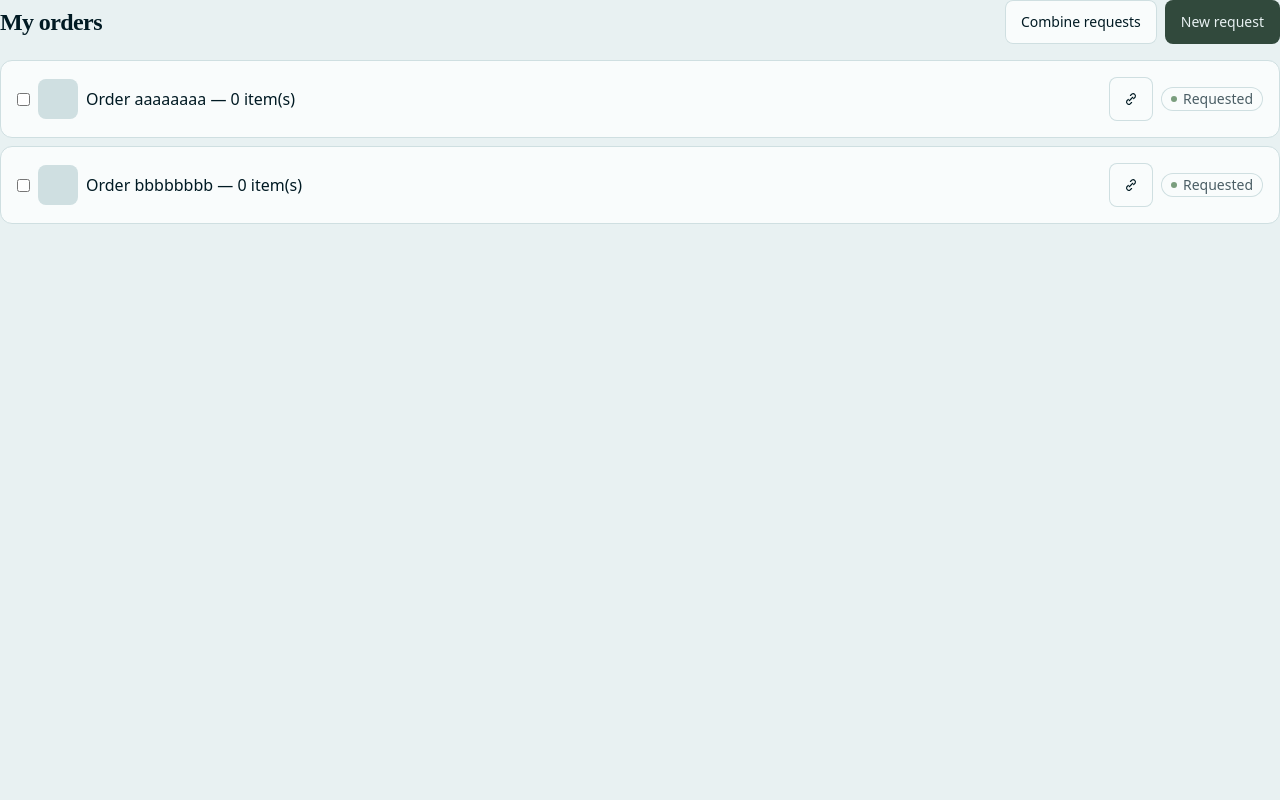
Test case: OrdersListPage › merging › offers merge only once two orders are selected and posts the selected ids after confirming
Click the checkbox named "Select order aaaaaaaa to merge" at x=24, y=99, box [17,92,30,106]
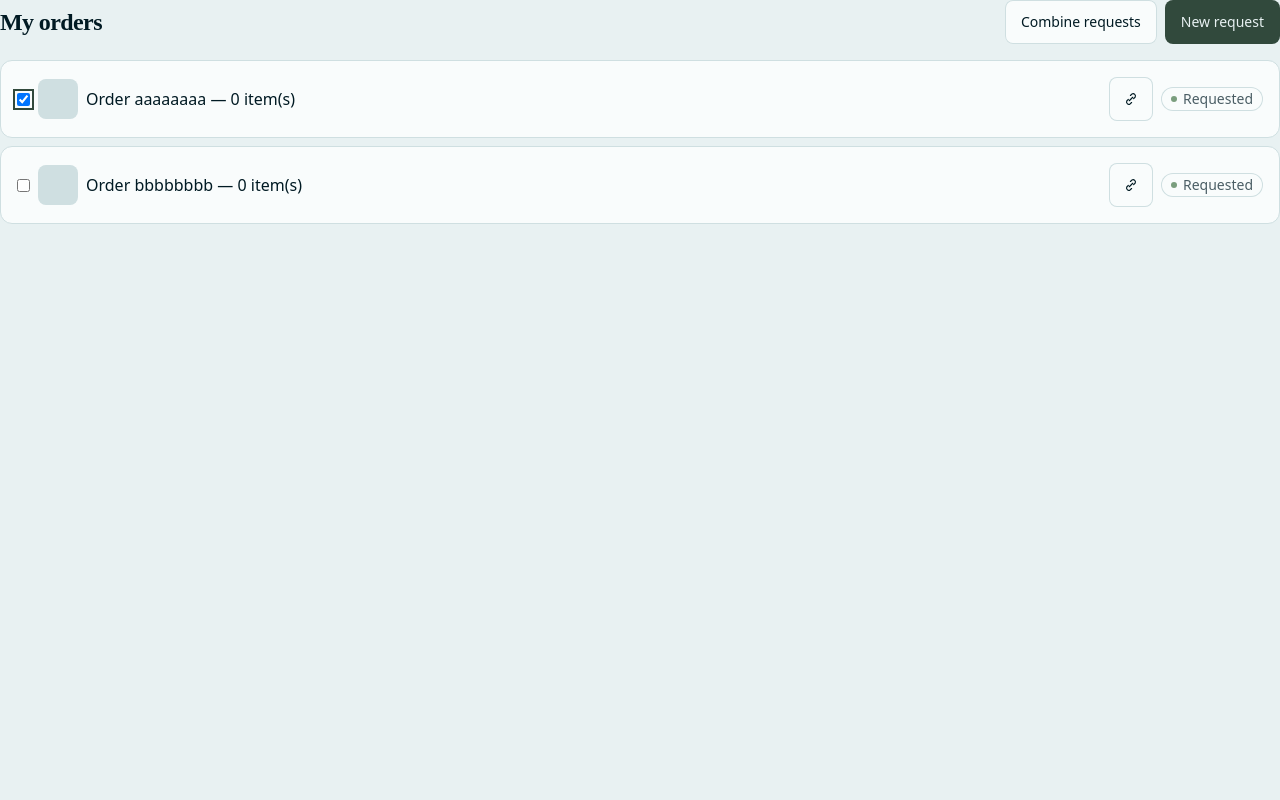
Expected: the text "Merge selected" is not shown
Click the checkbox named "Select order bbbbbbbb to merge" at x=24, y=185, box [17,178,30,192]
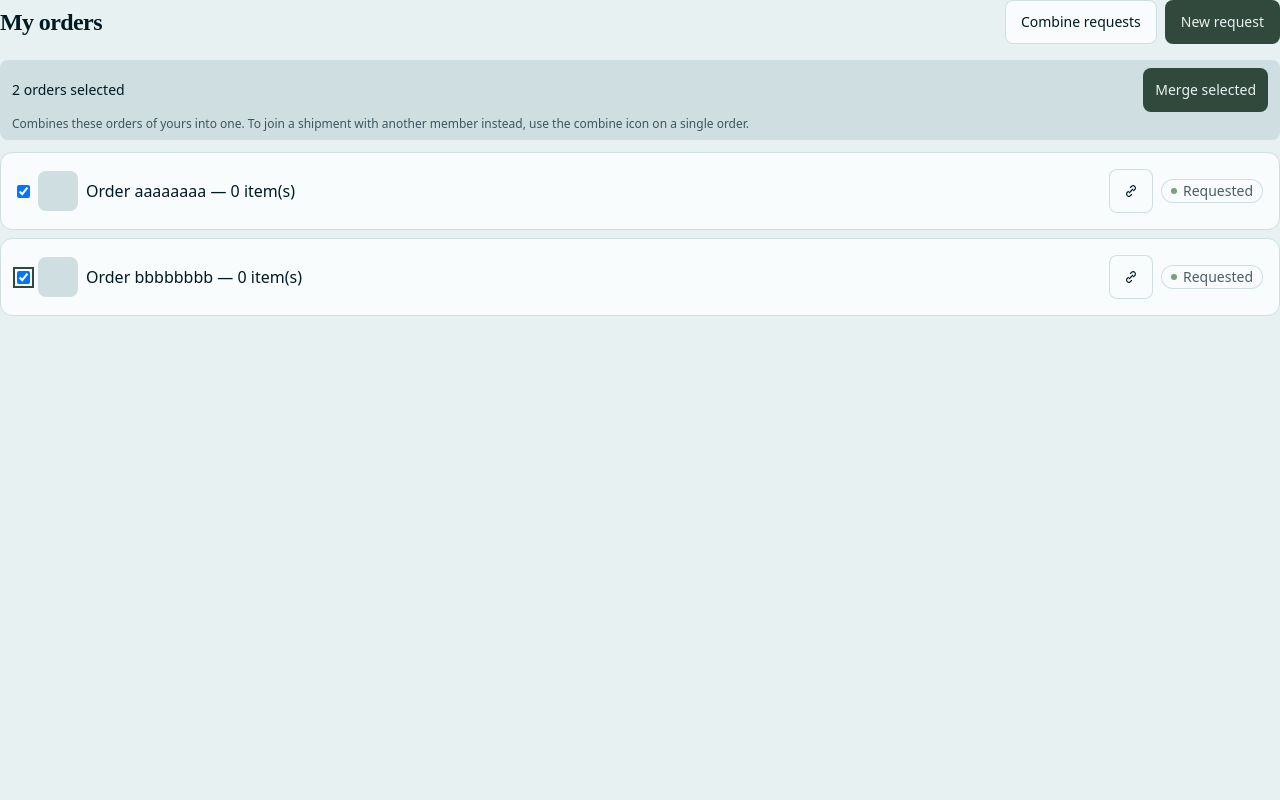
Expected: the text "2 orders selected" is shown, [12,80,125,100]
Click the button "Merge selected" at x=1206, y=90, box [1143,68,1268,112]
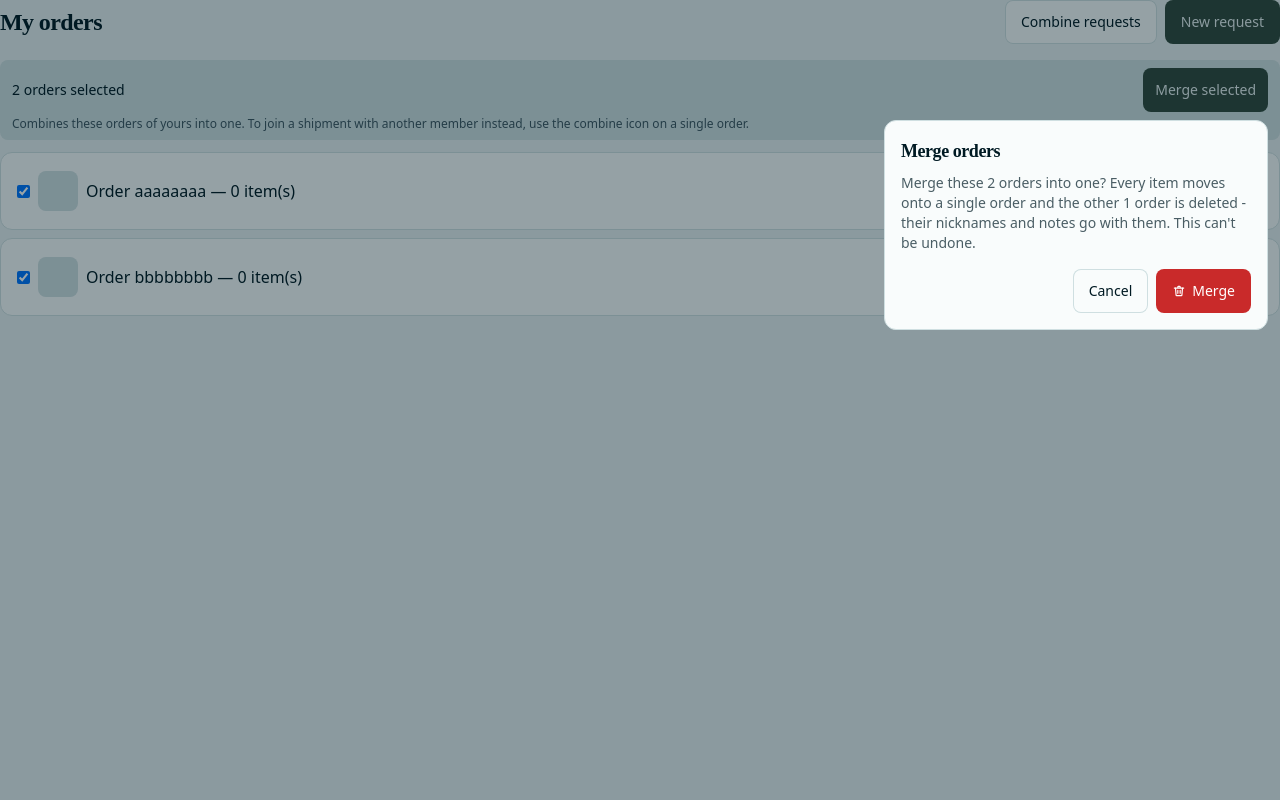
Click the button "Merge" at x=1204, y=291, box [1156,269,1251,313]
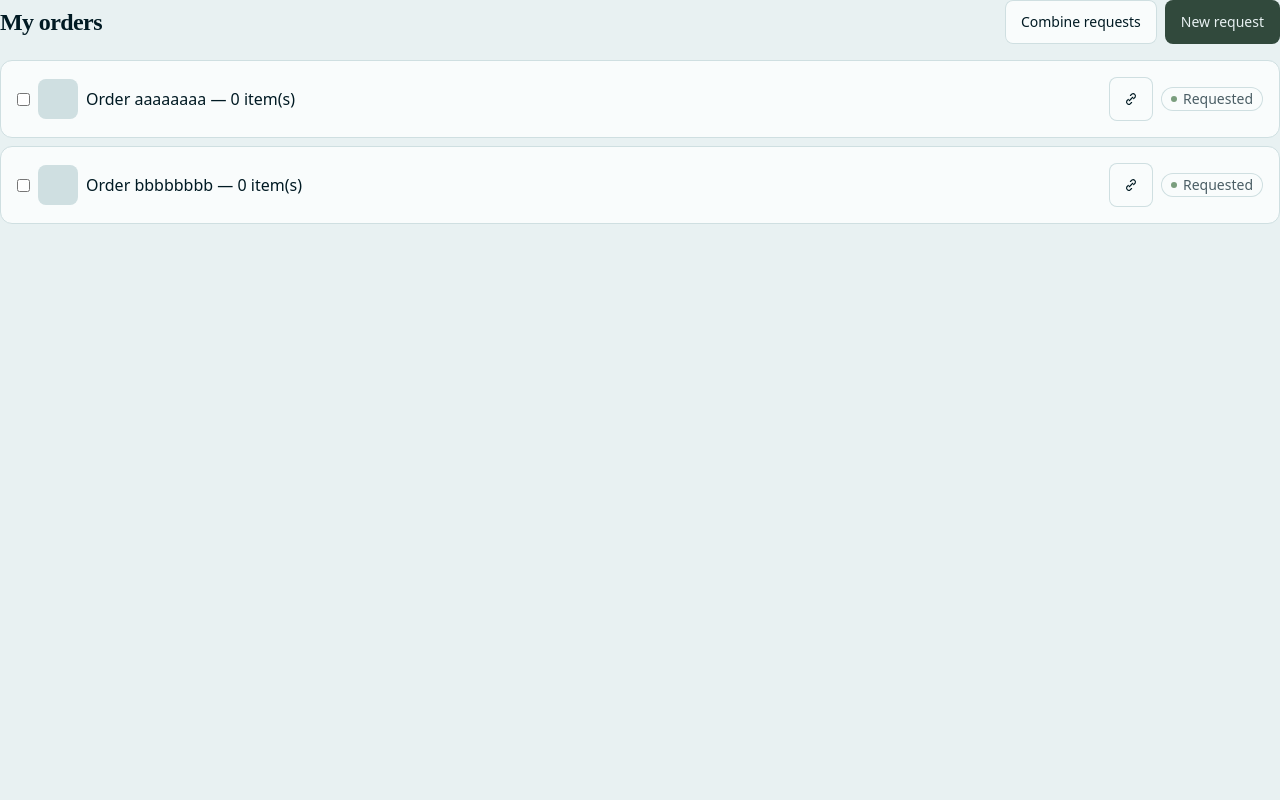
Expected: the text "2 orders selected" is gone
